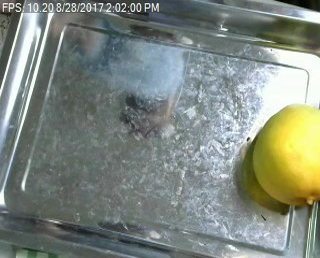Mango: (251, 103, 320, 207)
